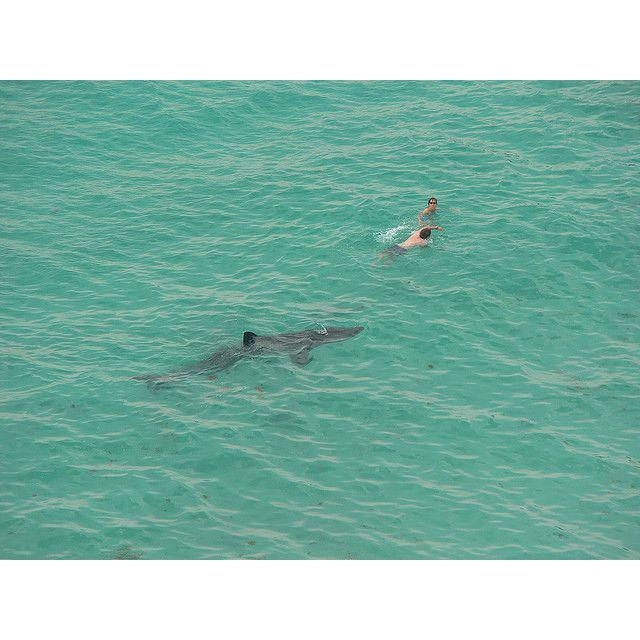human: (400, 223, 444, 258), (417, 197, 439, 222)
